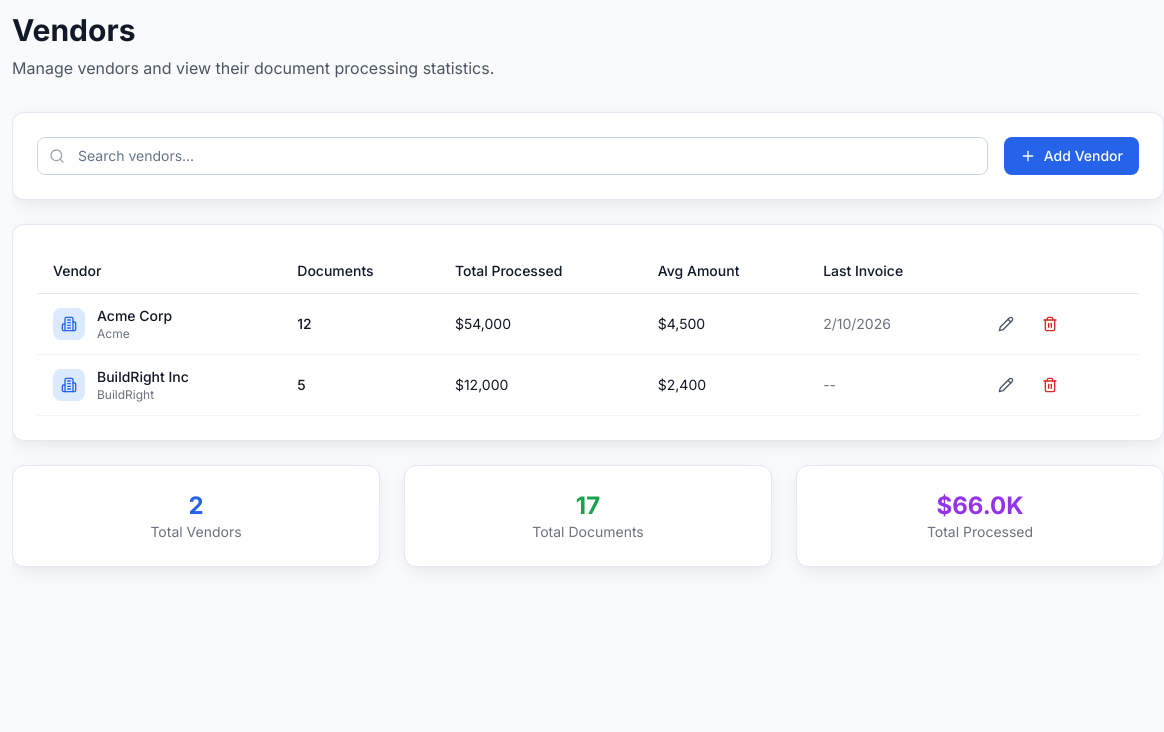
it: Vendors › shows empty state when search has no results
Type "NonExistentVendor" into the field with placeholder "Search vendors..." at (512, 156), box top-left (37, 137), bottom-right (988, 175)
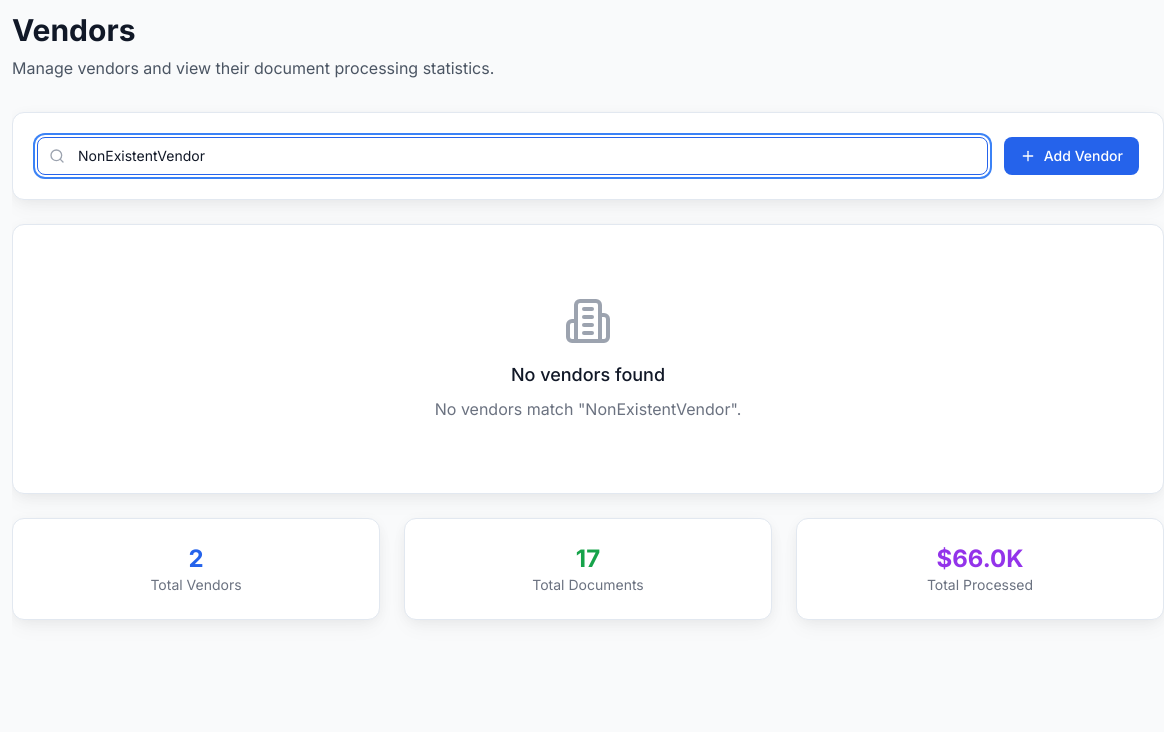
Check: the heading "No vendors found" is shown, box top-left (511, 364), bottom-right (665, 385)
